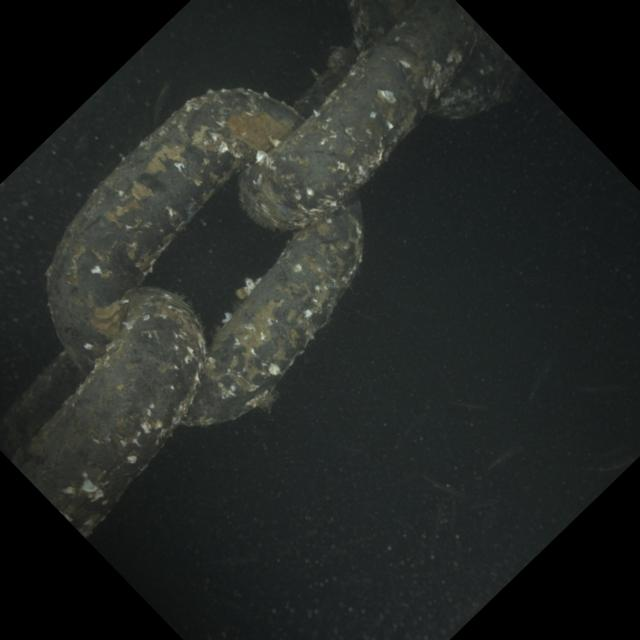ChainLink: (47, 88, 303, 370), (240, 0, 479, 230), (0, 288, 206, 538), (184, 201, 362, 425), (430, 25, 521, 118), (348, 0, 413, 50)
